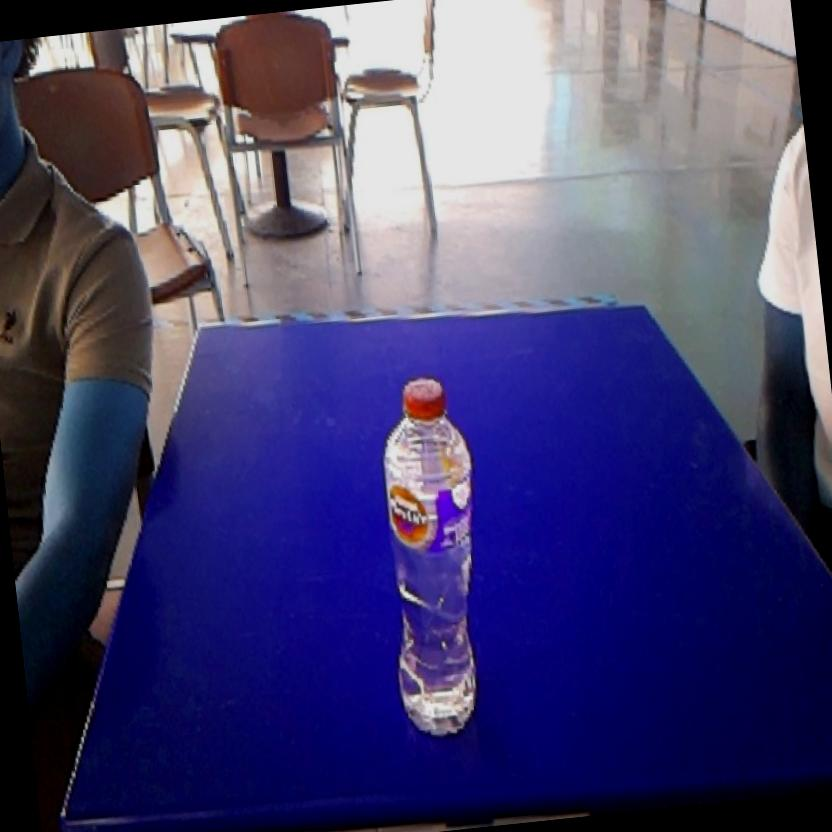good: (354, 362, 506, 758)
